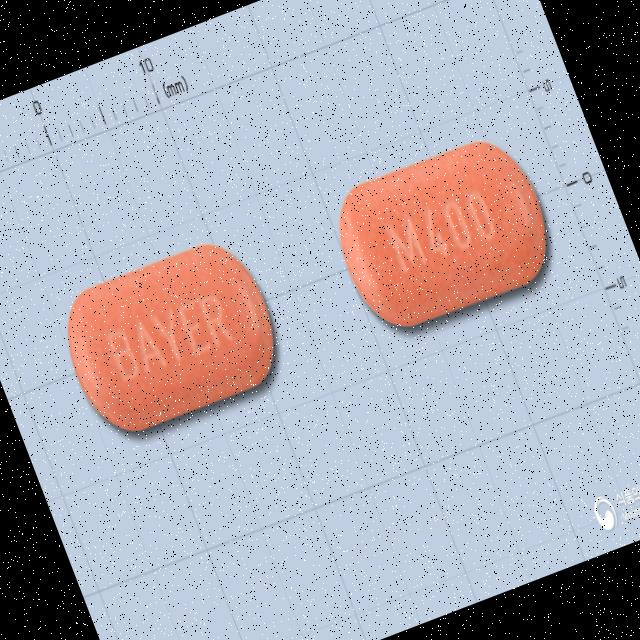Avelox: (43, 223, 300, 456), (316, 120, 570, 352)
